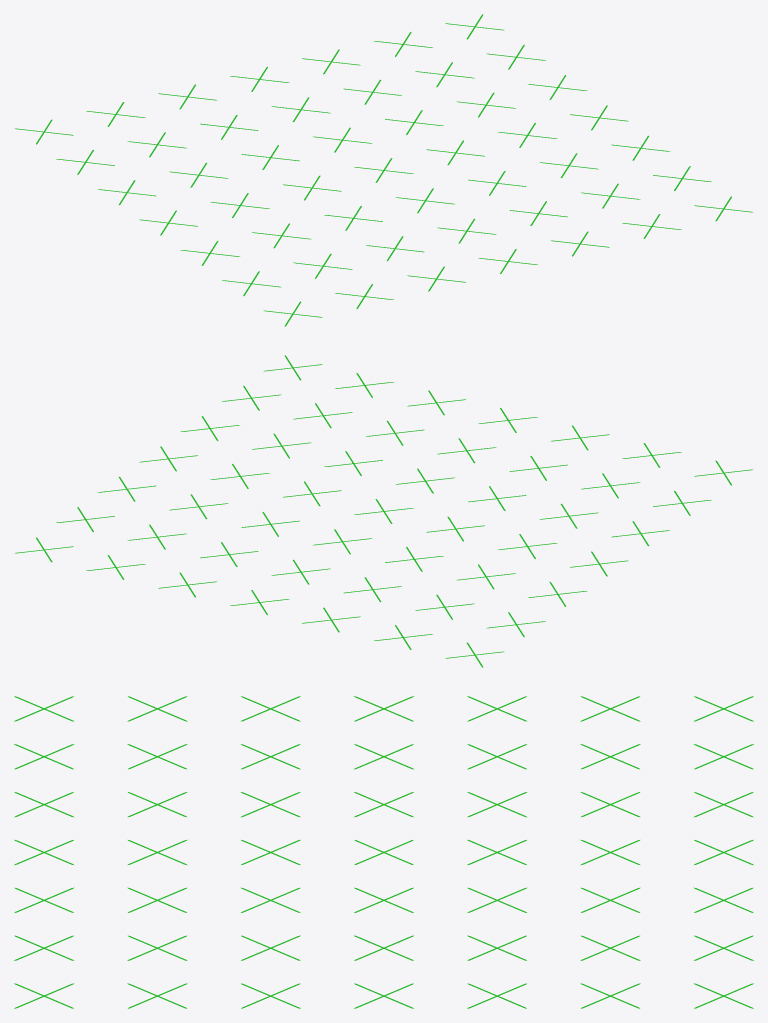
The model's file is slowdowngrid.fbx.
The picture shows the model from 3 angles, top to bottom: view 1: azimuth 30°, elevation 25°; view 2: azimuth 150°, elevation 25°; view 3: azimuth 270°, elevation 25°; orthographic projection. The views are drawn at different scales.
Visible parts, largest first — view 1: grid; view 2: grid; view 3: grid.
Boxes of the visible parts, x1,y1,x2,y2 form: grid: [15, 14, 752, 326]; grid: [15, 355, 752, 667]; grid: [14, 696, 753, 1008].
Size of the model in its own units: 980 by 0 by 980.
